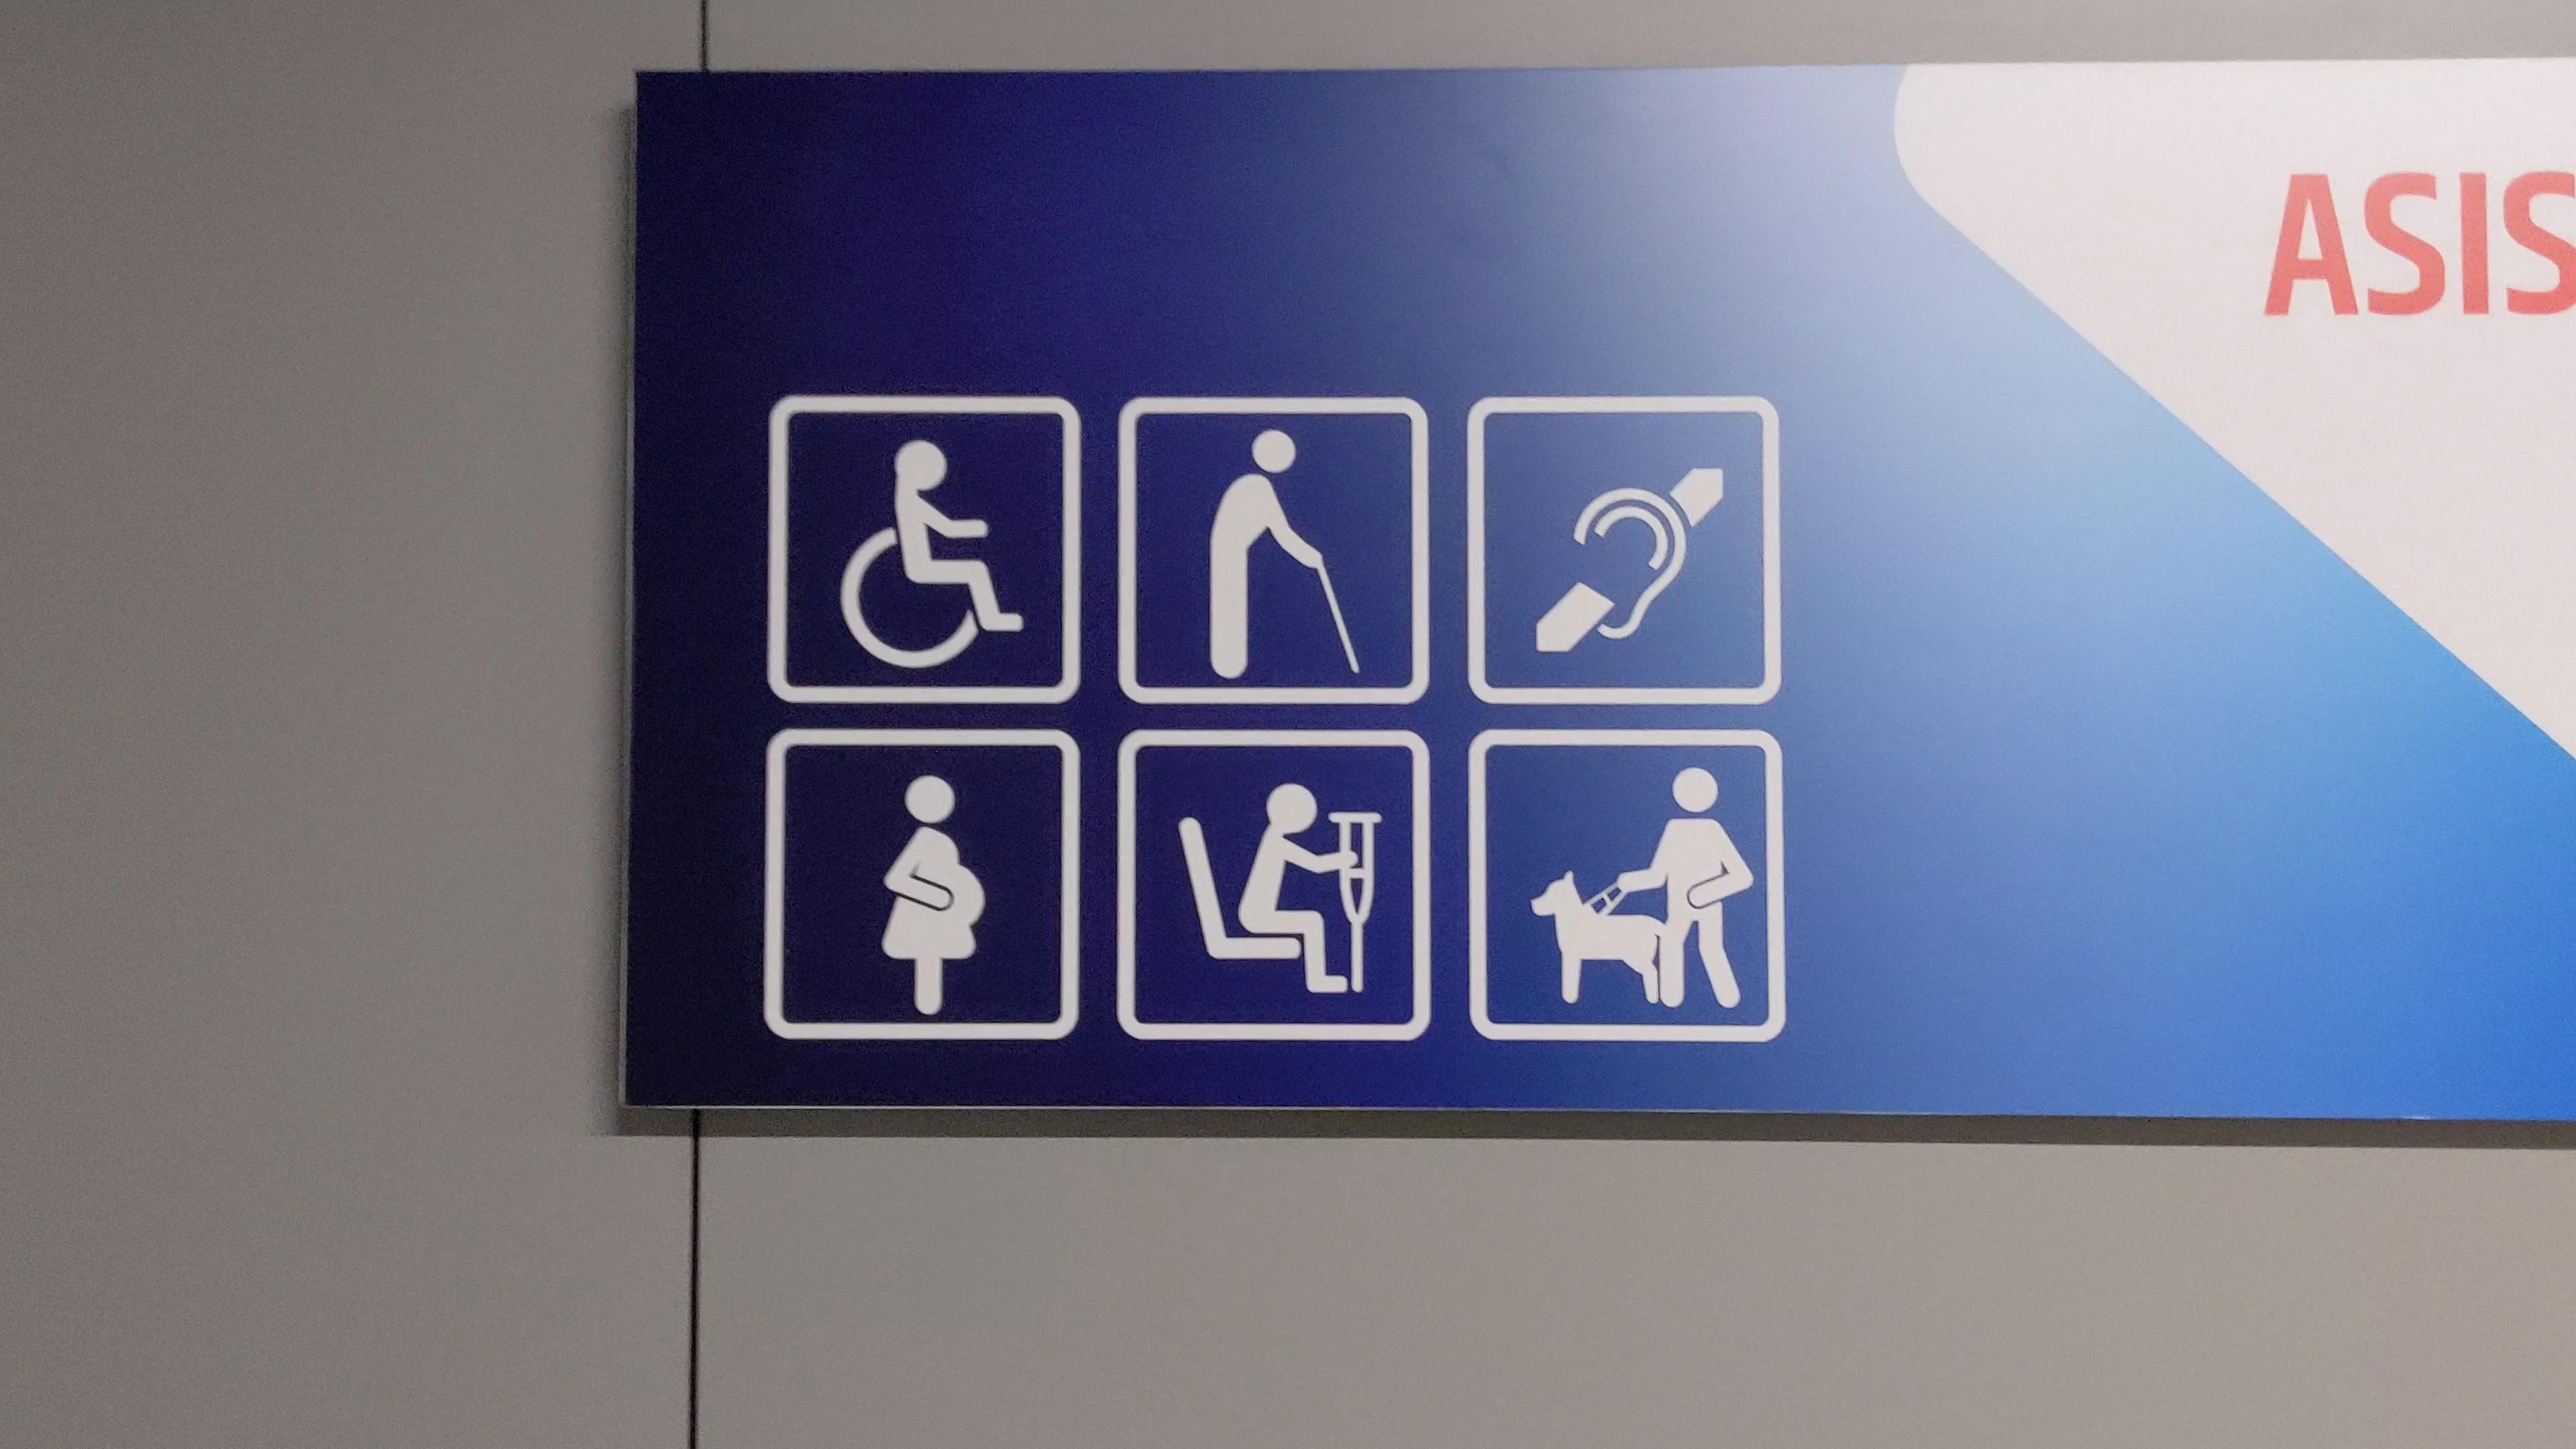handicapped symbol: (835, 433, 1031, 676)
